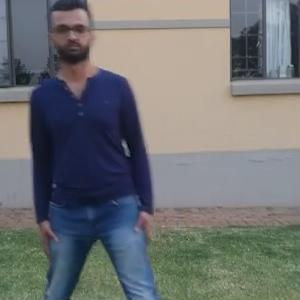follow: (43, 6, 153, 299)
